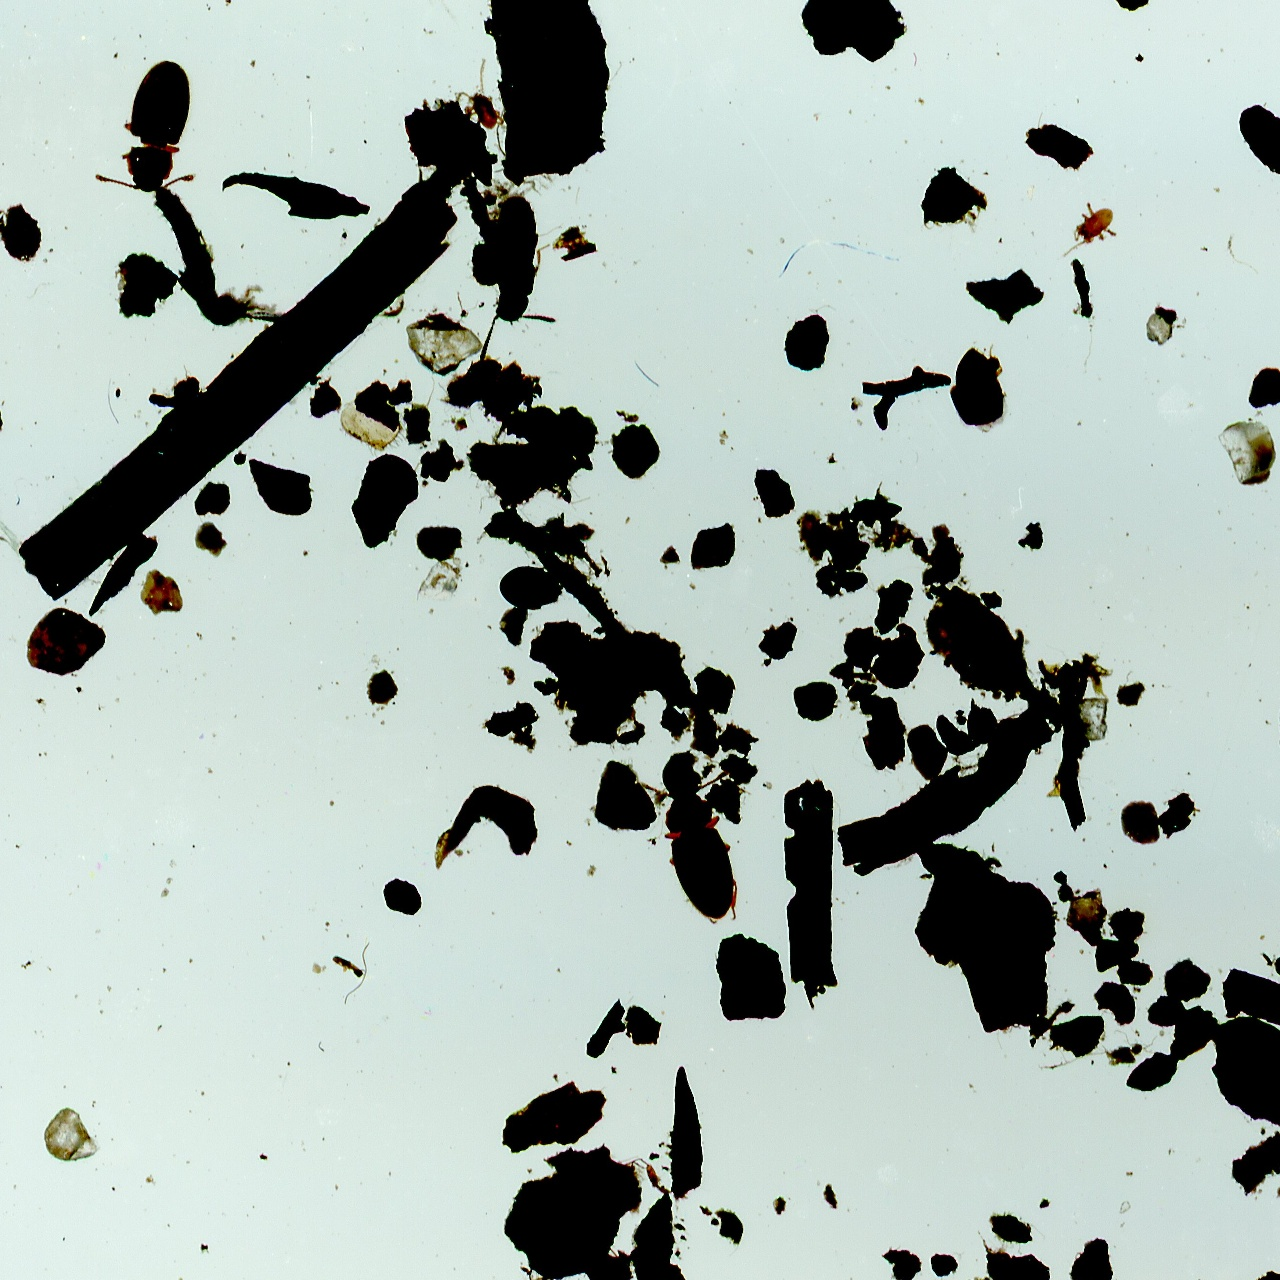arthropod: (123, 164, 277, 350), (625, 770, 760, 930), (92, 56, 198, 199), (477, 190, 559, 368), (453, 56, 507, 132), (1058, 199, 1119, 258)
